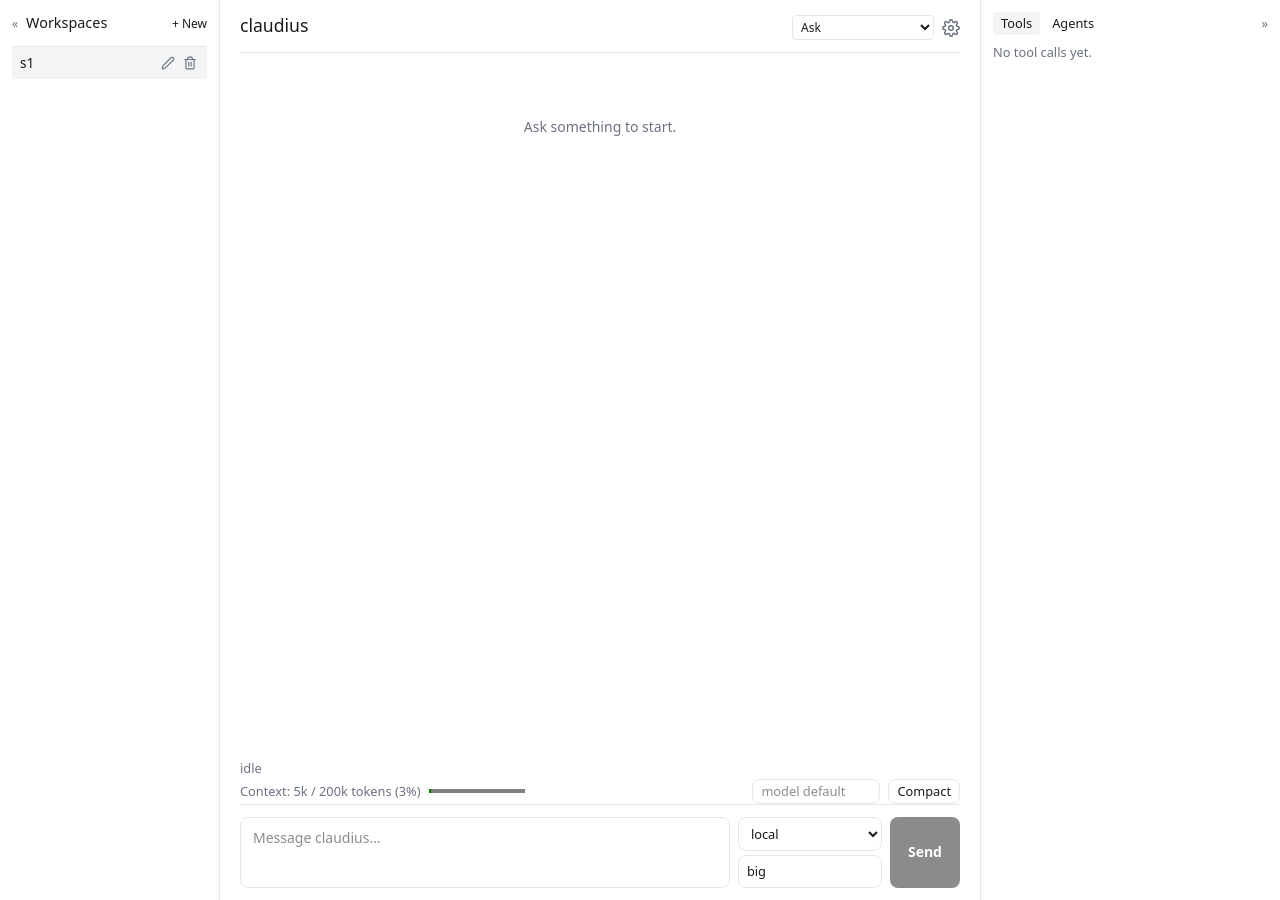
App › answering yes sends the message with compact
Replace the text in the field named "Model" with "small" at (810, 871), box left=738, top=855, right=882, bottom=888
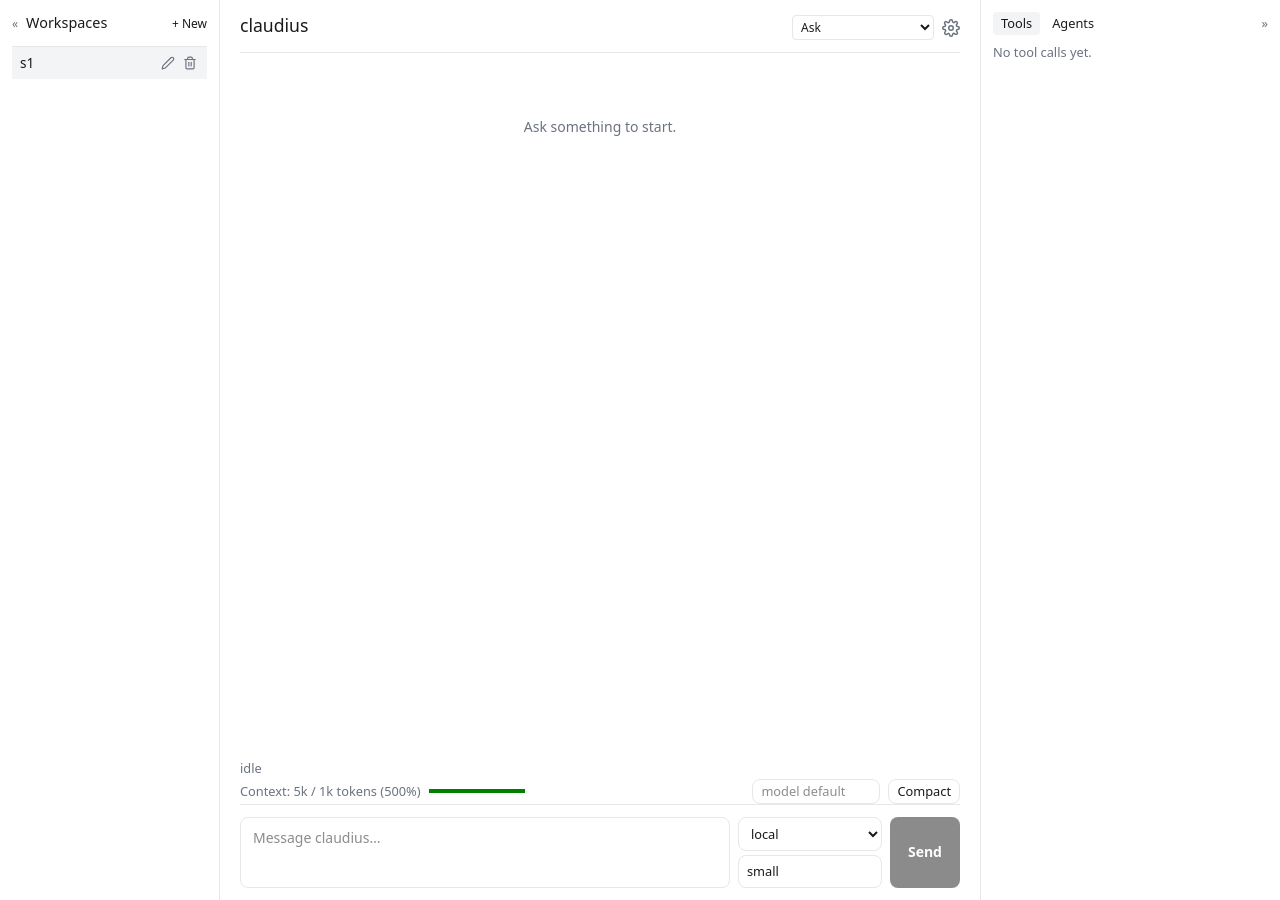
Type "hello" into the text box with placeholder "Message claudius…" at (485, 852), box left=240, top=817, right=730, bottom=888
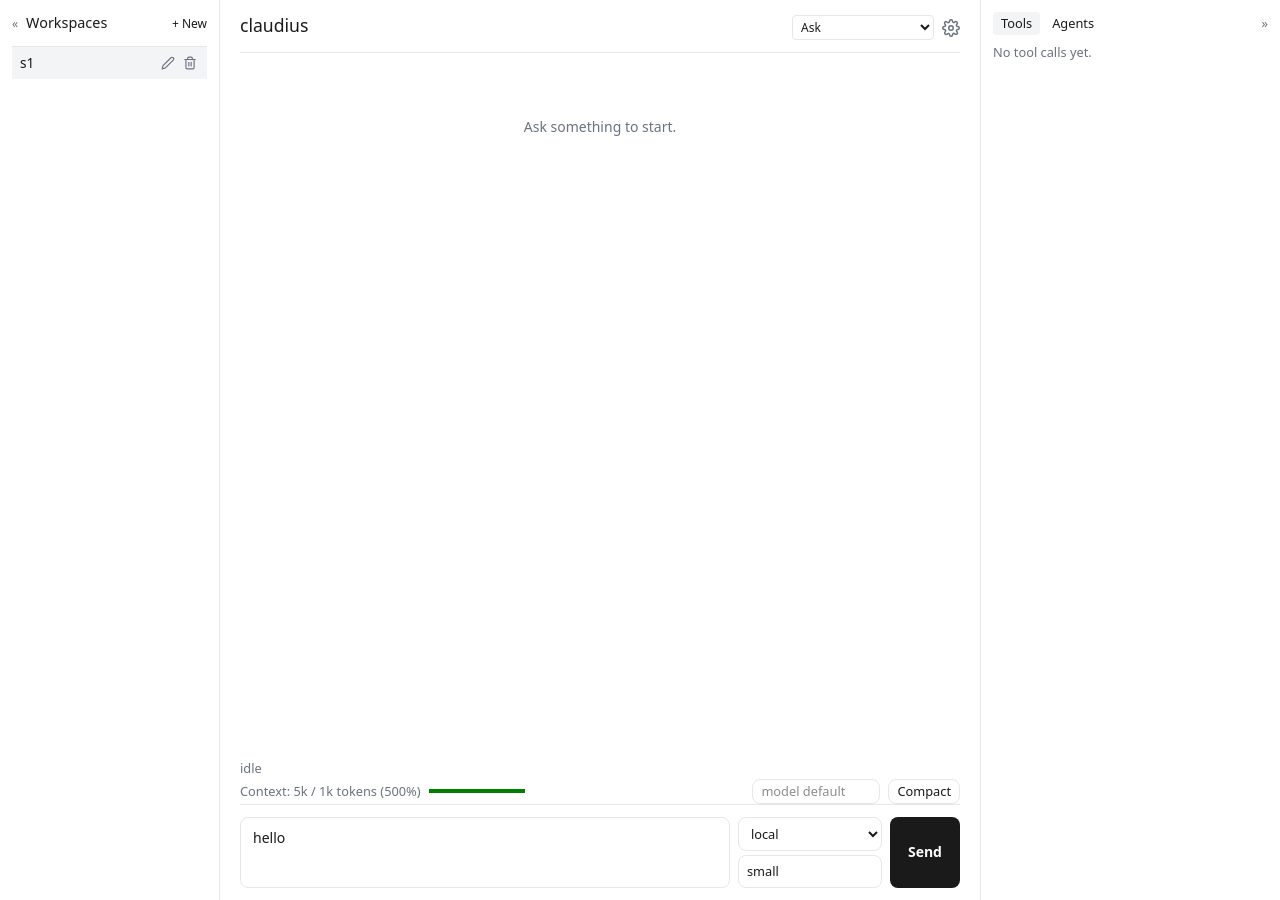
Press Enter in the text box named "Message claudius", box left=240, top=817, right=730, bottom=888
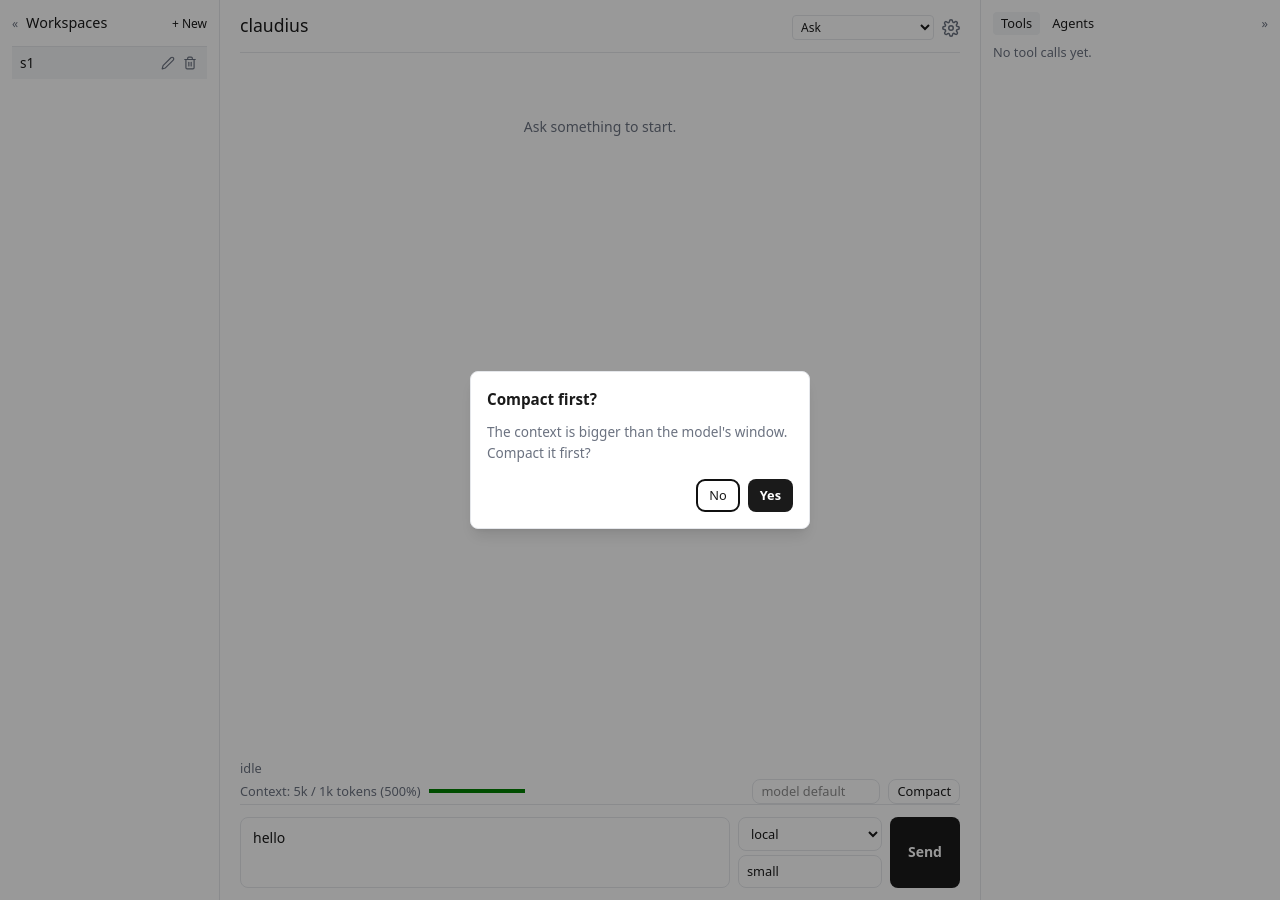
Click the button "Yes" at (770, 496), box left=748, top=479, right=793, bottom=512
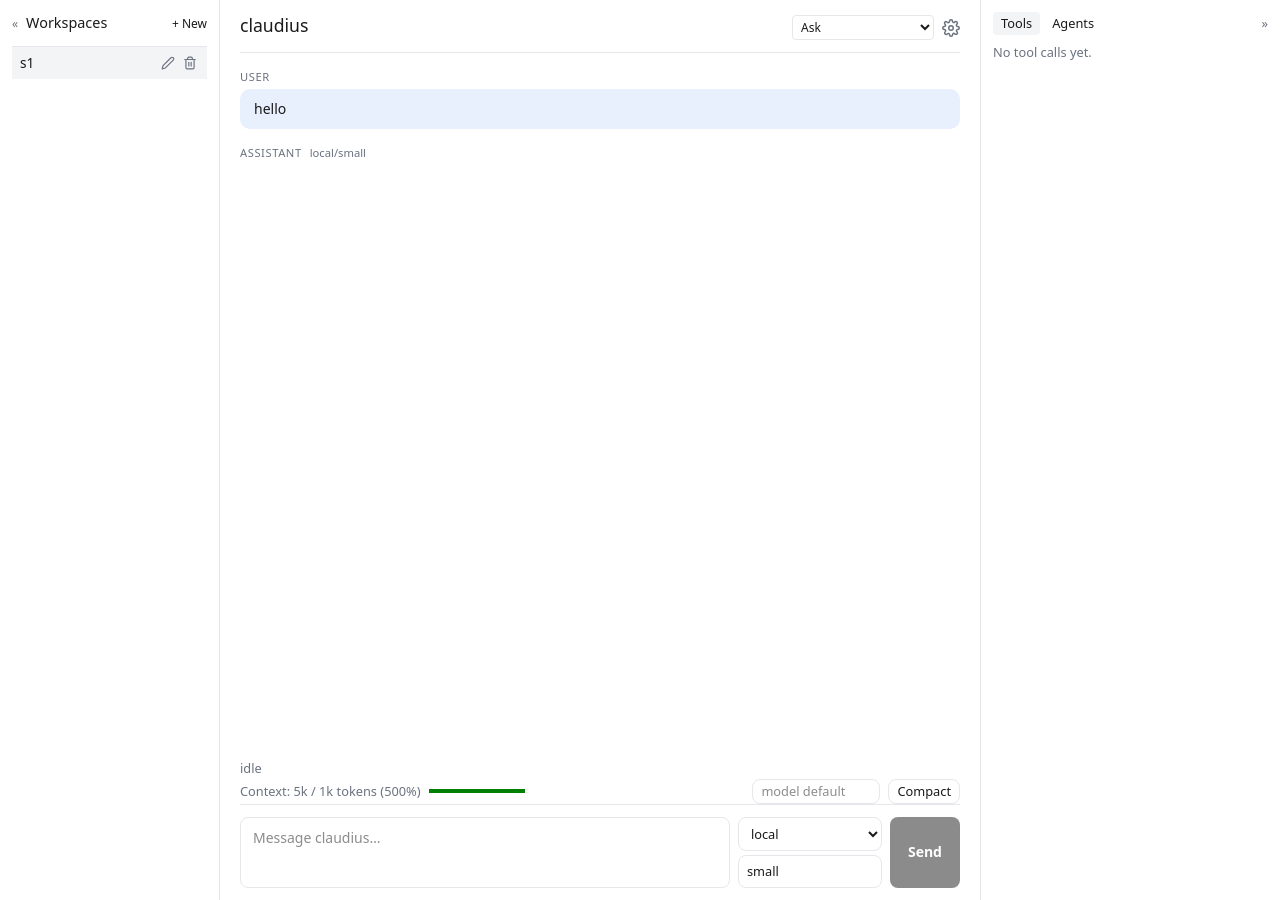
Result: the text "hello" is shown at left=240, top=89, right=960, bottom=129
Result: the dialog with class "dialog" is gone
